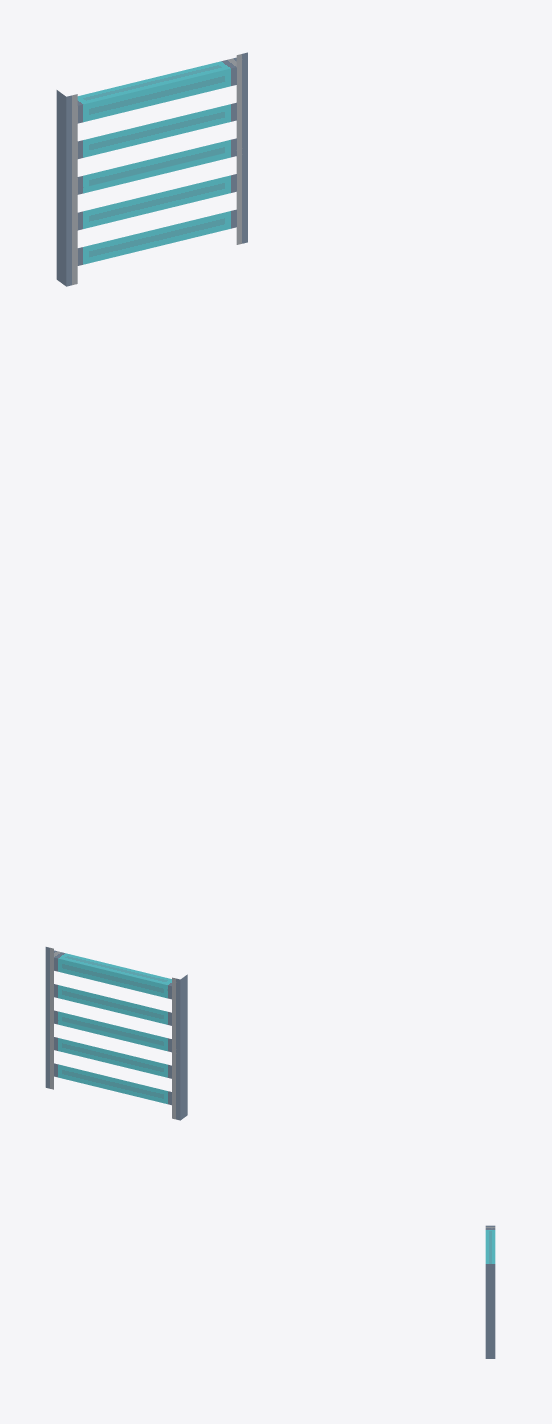
File: NewWallSmall.gltf
The picture shows the model from 3 angles, top to bottom: view 1: azimuth 30°, elevation 25°; view 2: azimuth 150°, elevation 25°; view 3: azimuth 270°, elevation 25°; orthographic projection. The views are drawn at different scales.
Size of the model in its own units: 2 by 5 by 10.
1 material, 1 textured.
